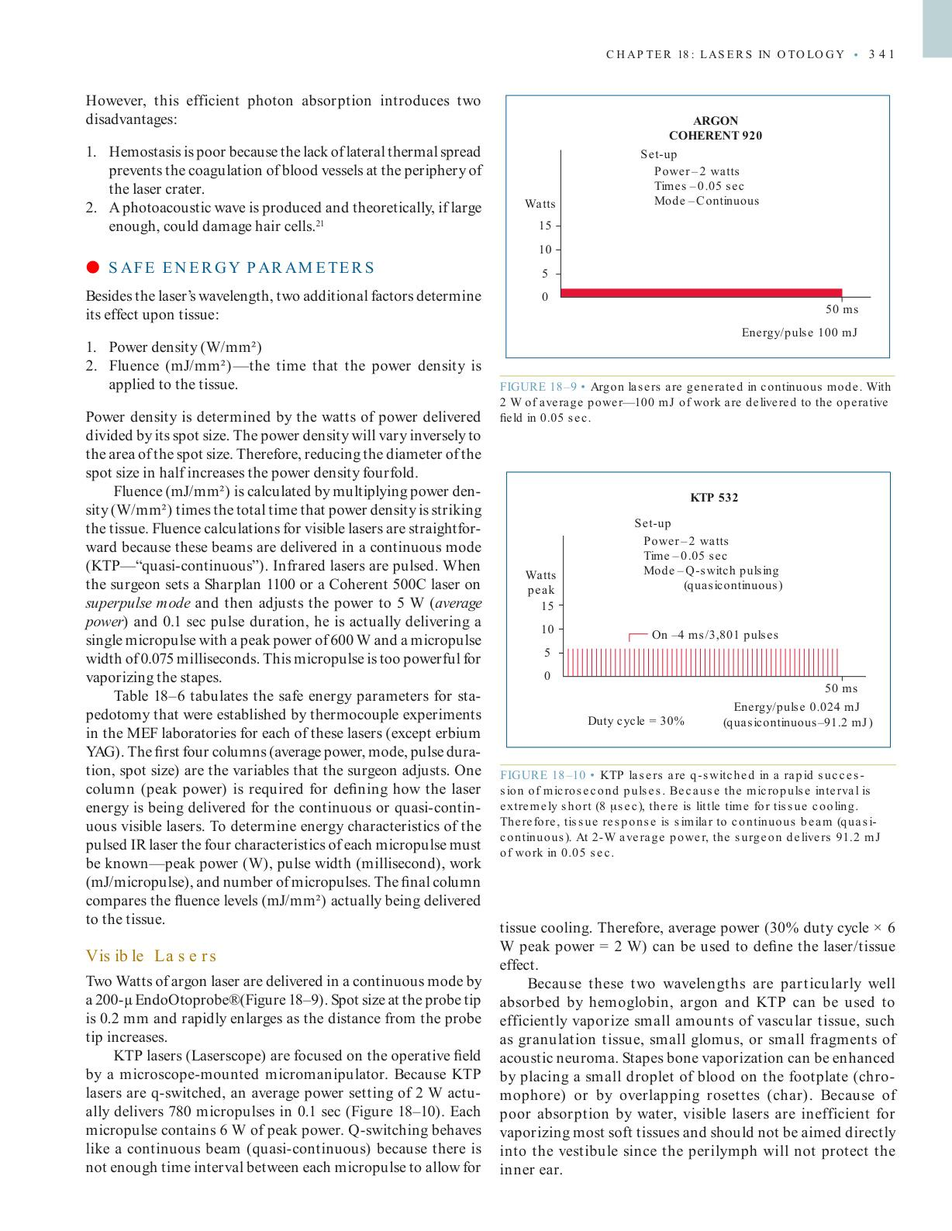caption: (498, 766, 882, 860), (496, 378, 894, 424)
header: (605, 48, 847, 61)
image: (511, 476, 885, 742), (511, 101, 884, 353)
section-heading: (106, 259, 376, 275)
sub-section-heading: (84, 946, 218, 964)
text: (82, 284, 481, 926), (497, 919, 901, 1176), (83, 973, 482, 1177), (83, 90, 485, 236)
